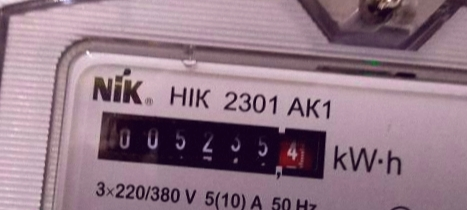0: (116, 124, 134, 151), (145, 124, 161, 150)
2: (200, 127, 216, 153)
3: (228, 127, 244, 153)
4: (285, 135, 302, 162)
5: (255, 130, 272, 158), (172, 125, 189, 152)
screen: (88, 101, 340, 188)
